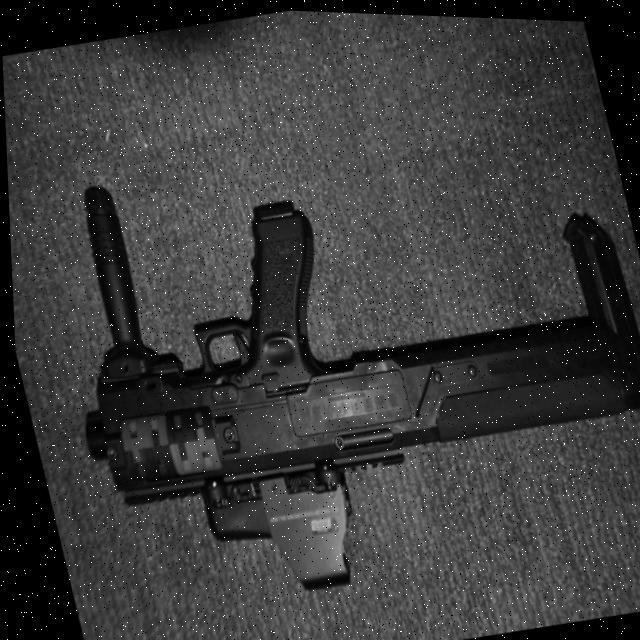firearm: (24, 89, 640, 635)
